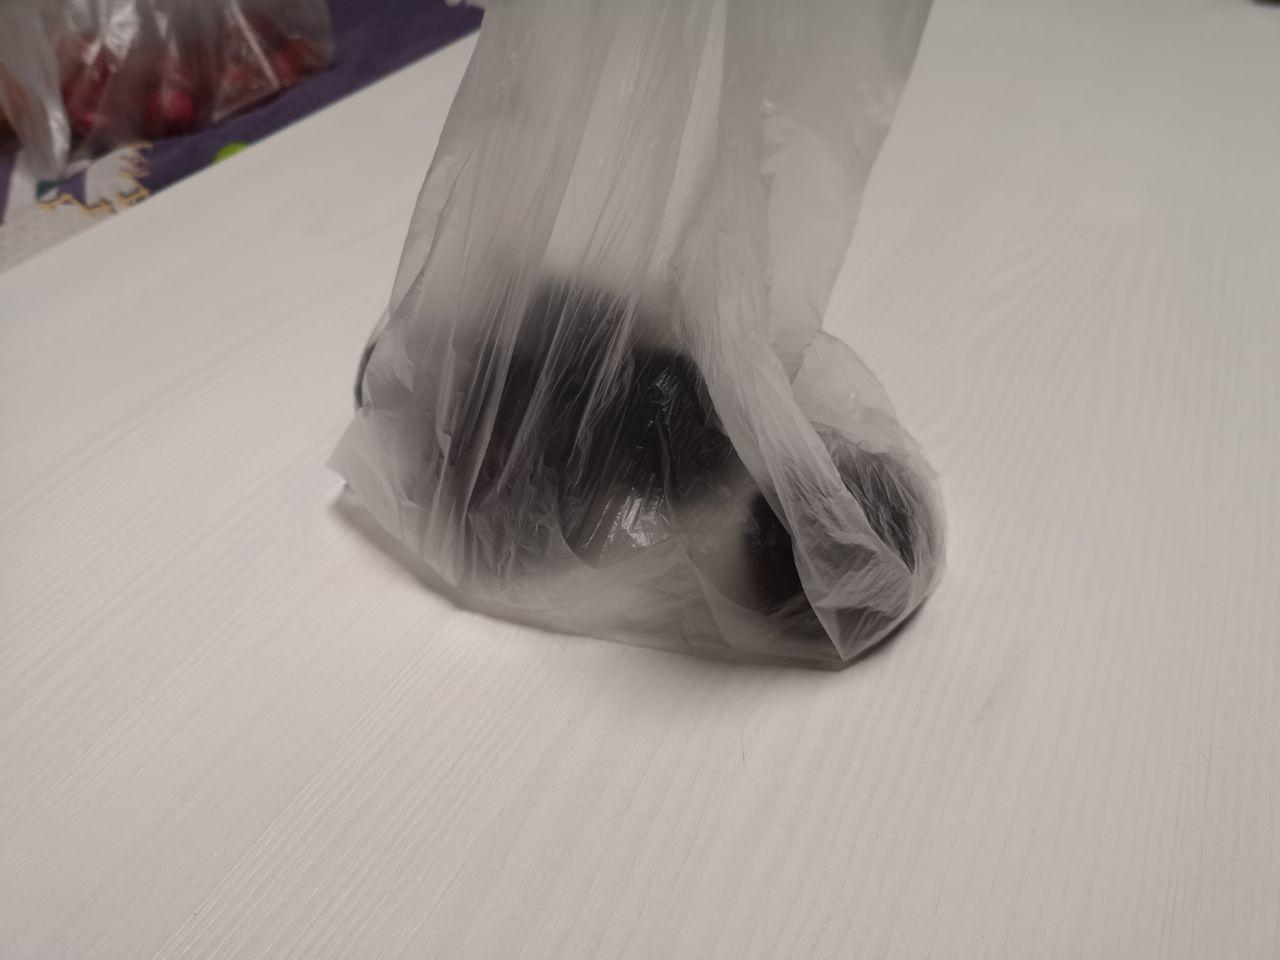plum: (291, 205, 965, 715)
